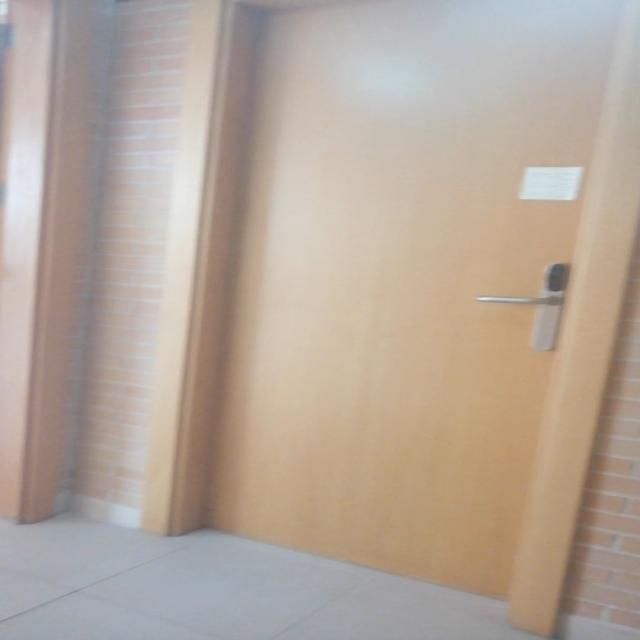door_handle: (471, 293, 565, 310)
